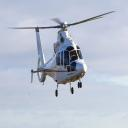helicopter: (19, 18, 93, 101)
